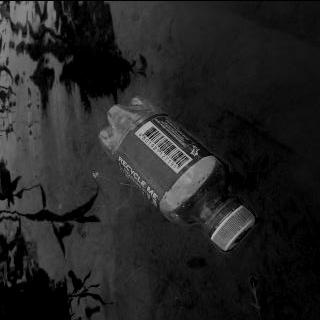bottle: (98, 94, 257, 251)
